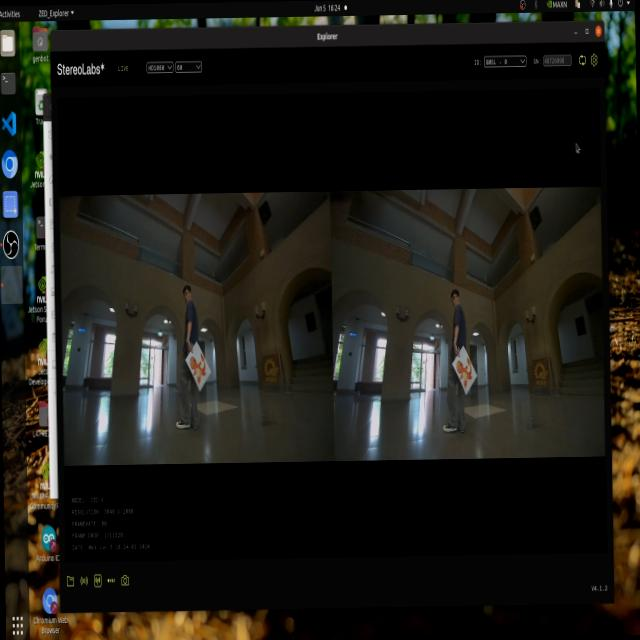red: (446, 352, 482, 398), (187, 344, 201, 379)
